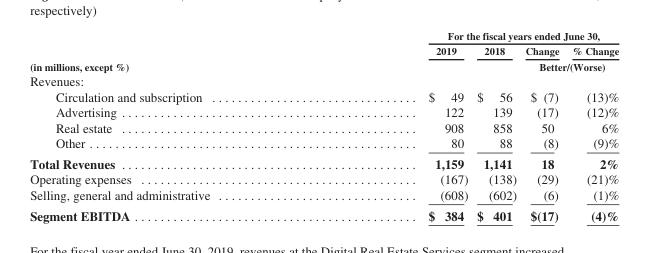table: (29, 29, 618, 222)
table column: (29, 29, 318, 222), (318, 29, 471, 222), (564, 29, 618, 222), (471, 29, 520, 222), (520, 29, 564, 222)
table column header: (29, 29, 618, 58)
table projected row header: (29, 72, 618, 88)
table row: (29, 152, 618, 171), (29, 186, 618, 204), (29, 204, 618, 222), (29, 135, 618, 152), (29, 42, 618, 58), (29, 72, 618, 88), (29, 88, 618, 104), (29, 119, 618, 135), (29, 104, 618, 119), (29, 171, 618, 186), (29, 58, 618, 72), (29, 29, 618, 42)
table spanning cell: (318, 29, 618, 42), (520, 58, 618, 72)
